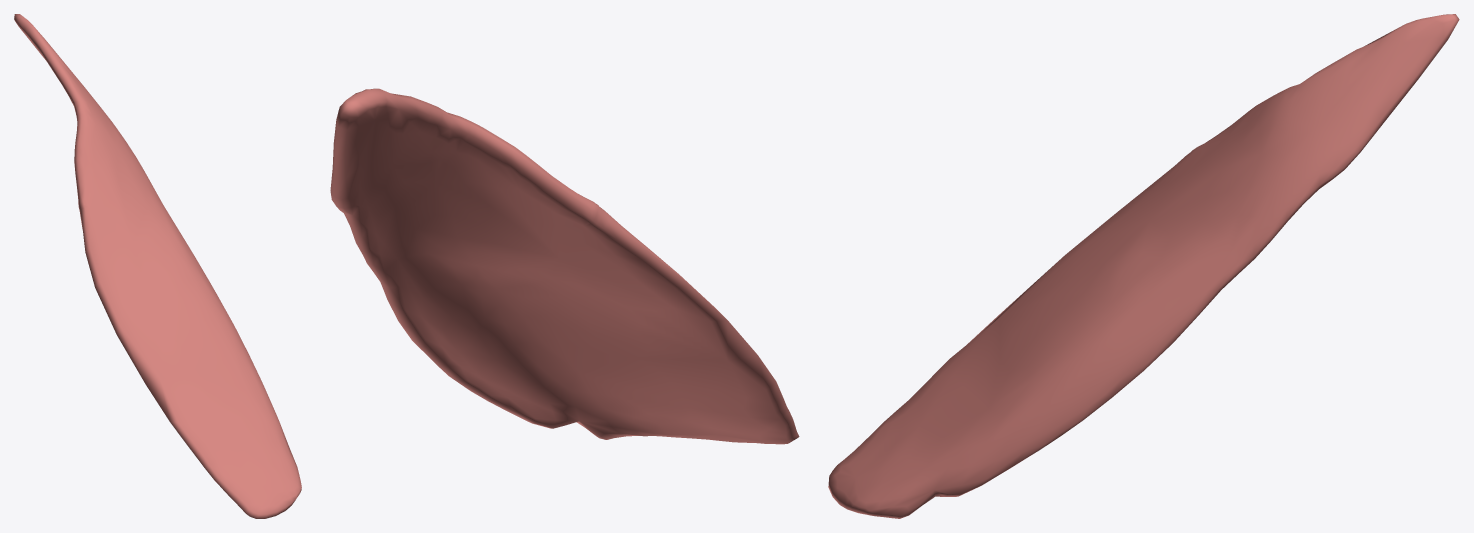
The picture shows the model from 3 angles, left to right: view 1: azimuth 30°, elevation 25°; view 2: azimuth 150°, elevation 25°; view 3: azimuth 270°, elevation 25°; orthographic projection. The views are drawn at different scales.
Visible parts, largest first — view 1: ZA_f74cc61bfe444dff; view 2: ZA_f74cc61bfe444dff; view 3: ZA_f74cc61bfe444dff.
Boxes of the visible parts, x1,y1,x2,y2 form: ZA_f74cc61bfe444dff: (14, 14, 301, 518); ZA_f74cc61bfe444dff: (330, 88, 799, 444); ZA_f74cc61bfe444dff: (828, 14, 1459, 518).
Bounding box in the file's own units: 0.0068 × 0.0166 × 0.0204.
